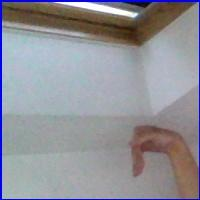del: (126, 123, 187, 181)
